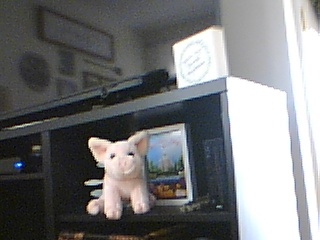piggy: (84, 128, 158, 222)
